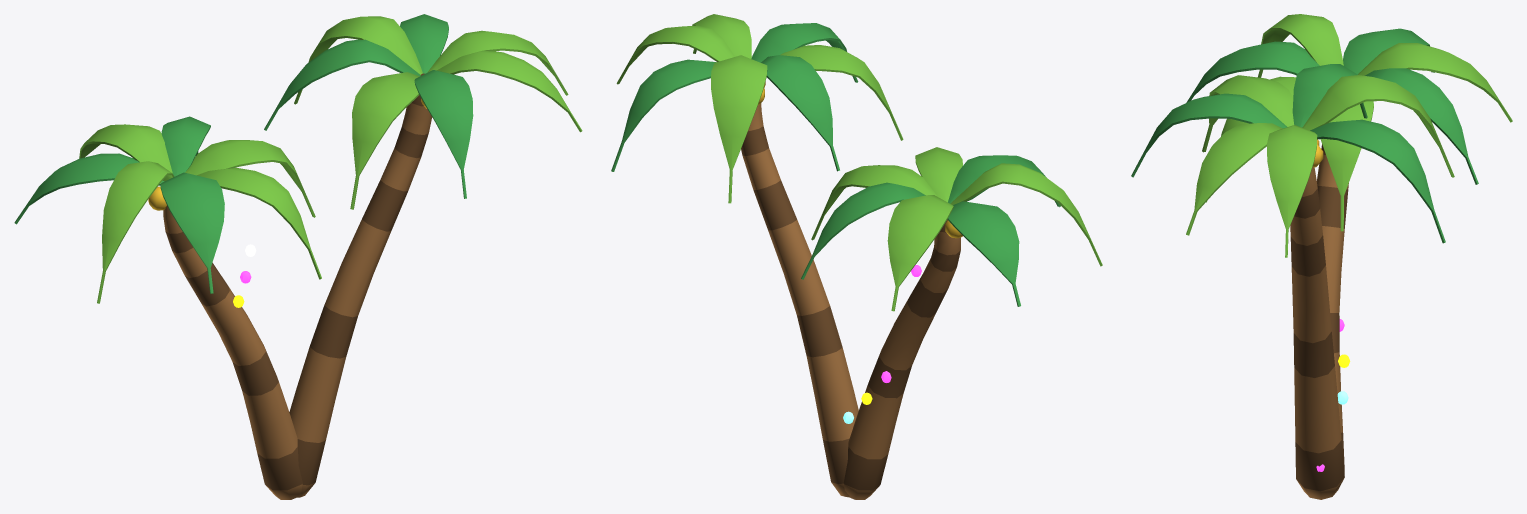
The model's file is W6_Palm_B.fbx.
3 renders of one model, left to right at view 1: azimuth 30°, elevation 25°; view 2: azimuth 150°, elevation 25°; view 3: azimuth 270°, elevation 25°, orthographic. The views are drawn at different scales.
Visible parts, largest first — view 1: W6_Palm_B; view 2: W6_Palm_B; view 3: W6_Palm_B.
Part boxes in pixels (x1,y1,x2,y2): W6_Palm_B: (14, 14, 582, 499); W6_Palm_B: (611, 14, 1102, 499); W6_Palm_B: (1131, 14, 1512, 499).
Bounding box in the file's own units: 7.71 × 6.68 × 4.92.
